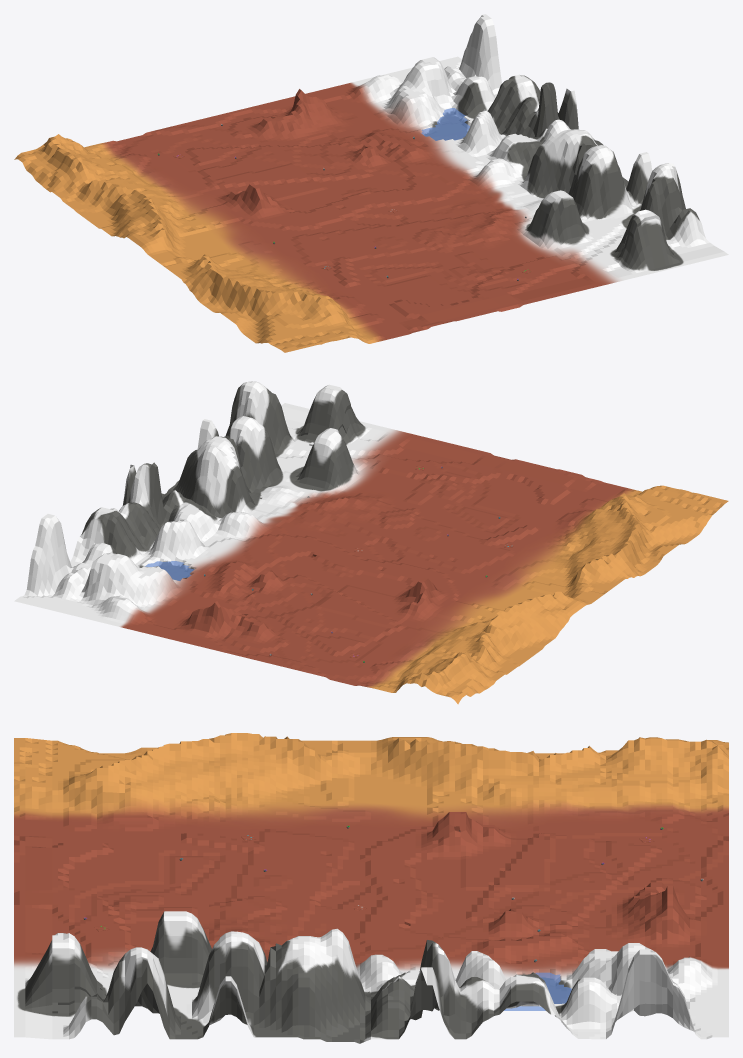
Rendered from Map.glb.
3 views of the same model, one above another, from view 1: azimuth 30°, elevation 25°; view 2: azimuth 150°, elevation 25°; view 3: azimuth 270°, elevation 25° (orthographic). The views are drawn at different scales.
Visible parts, largest first — view 1: Plane, Plane.001; view 2: Plane; view 3: Plane, Plane.001.
Part boxes in pixels (box(x1,y1,x2,y2)): Plane: box(14, 14, 728, 352); Plane.001: box(421, 108, 469, 140); Plane: box(14, 381, 728, 704); Plane: box(14, 733, 728, 1043); Plane.001: box(504, 972, 571, 1010).
Size of the model in its own units: 500 by 83.16 by 528.
9 materials, 1 textured.
